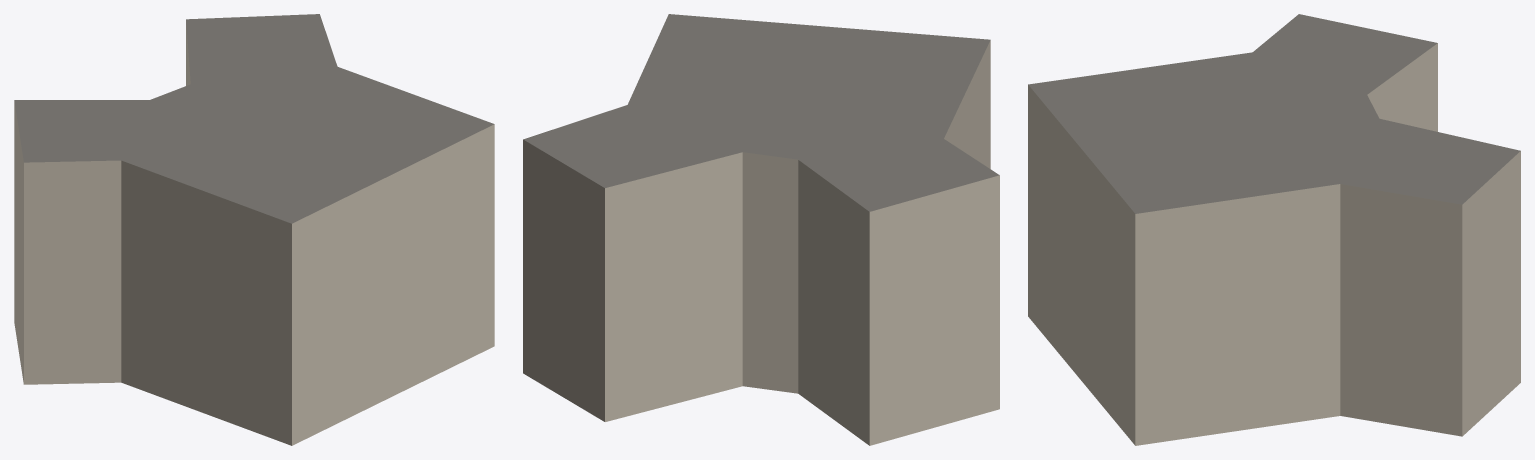
The picture shows the model from 3 angles, left to right: view 1: azimuth 30°, elevation 25°; view 2: azimuth 150°, elevation 25°; view 3: azimuth 270°, elevation 25°; orthographic projection. The views are drawn at different scales.
Visible parts, largest first — view 1: HP-w293416975; view 2: HP-w293416975; view 3: HP-w293416975.
Part boxes in pixels (x1,y1,x2,y2): HP-w293416975: (14, 14, 494, 445); HP-w293416975: (523, 14, 999, 445); HP-w293416975: (1028, 14, 1520, 445).
Bounding box in the file's own units: 33.28 × 18 × 34.66.
